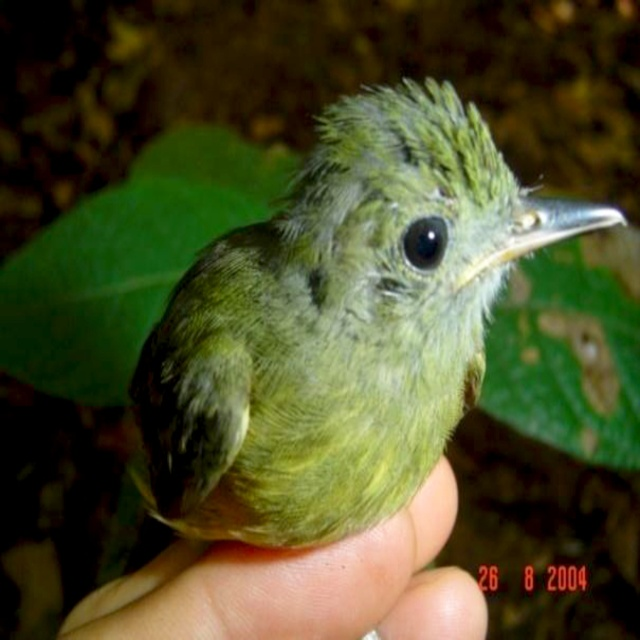Parrot: (120, 73, 625, 554)
